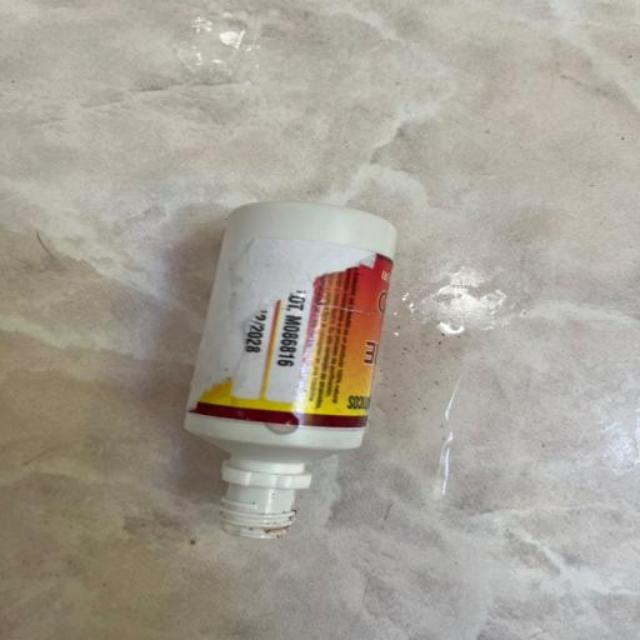HDPE: (125, 140, 512, 579)
